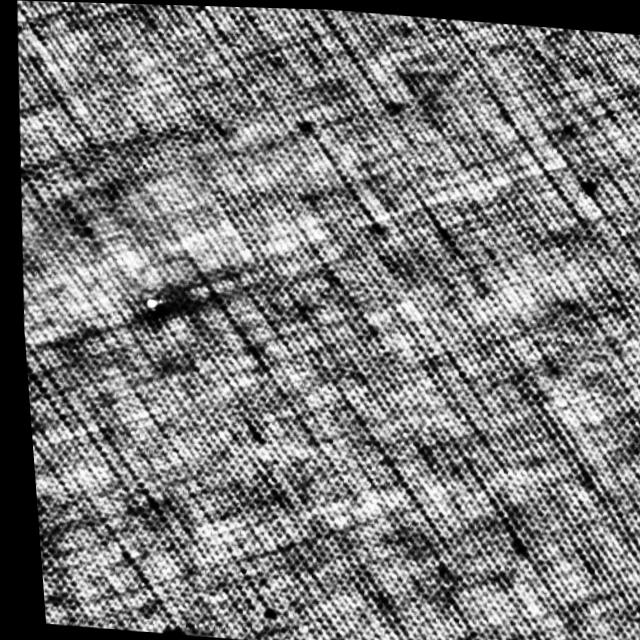Hole: (130, 288, 167, 317)
